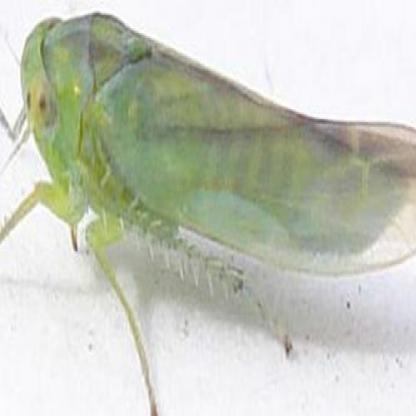green-leafhopper: (19, 14, 410, 294)
